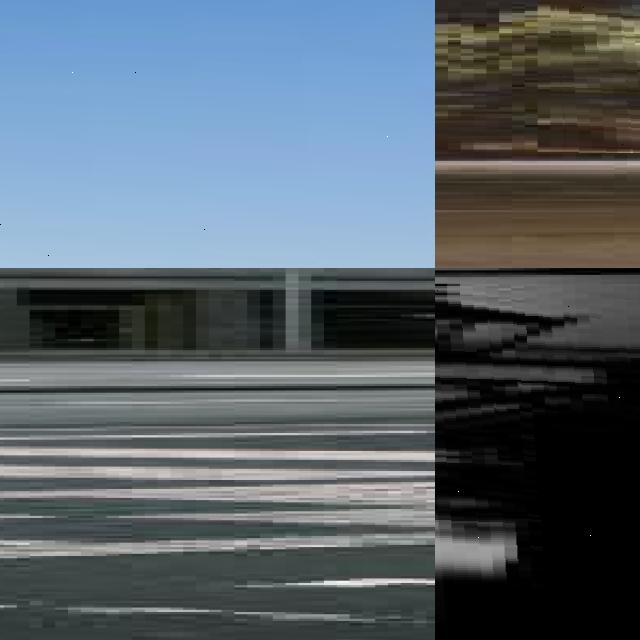street light: (0, 0, 435, 268), (435, 283, 640, 640), (549, 0, 640, 153)
